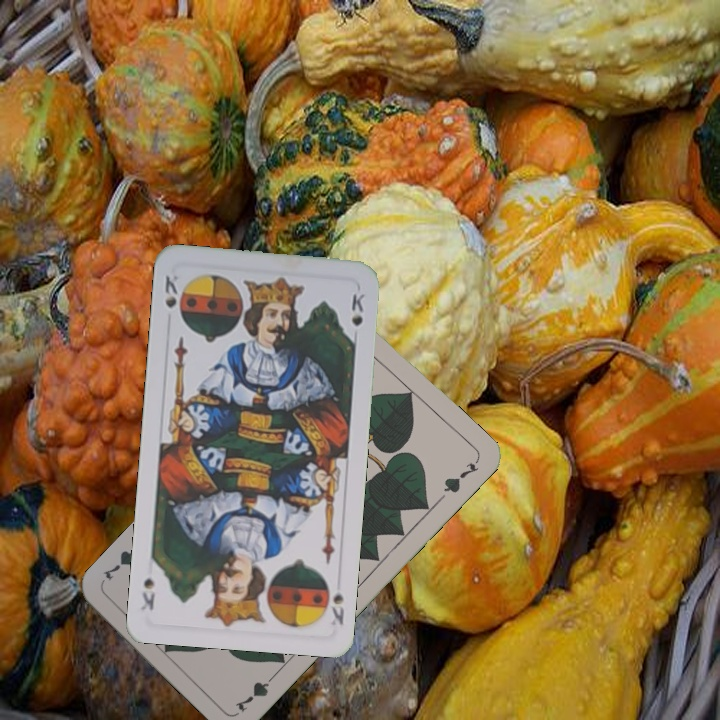G7: (231, 668, 280, 716)
SK: (161, 271, 181, 311), (326, 590, 347, 628)
